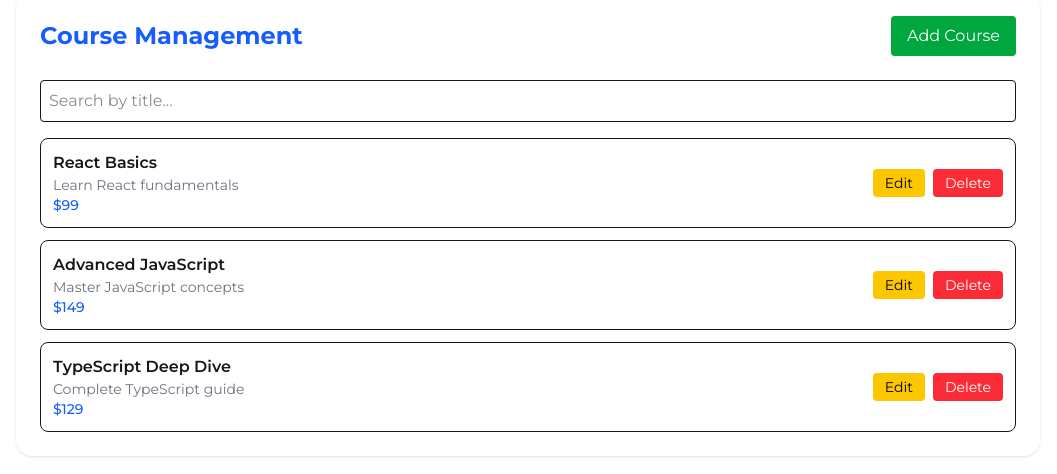
Scenario: CourseManagement Component › Search Functionality › should show 'No courses found' when search has no matches
Expected: the text "React Basics" is shown, [53,153,157,172]
Step 1. Type "Python" into the field with placeholder "Search by title..." → (528, 101), box [40,80,1016,122]
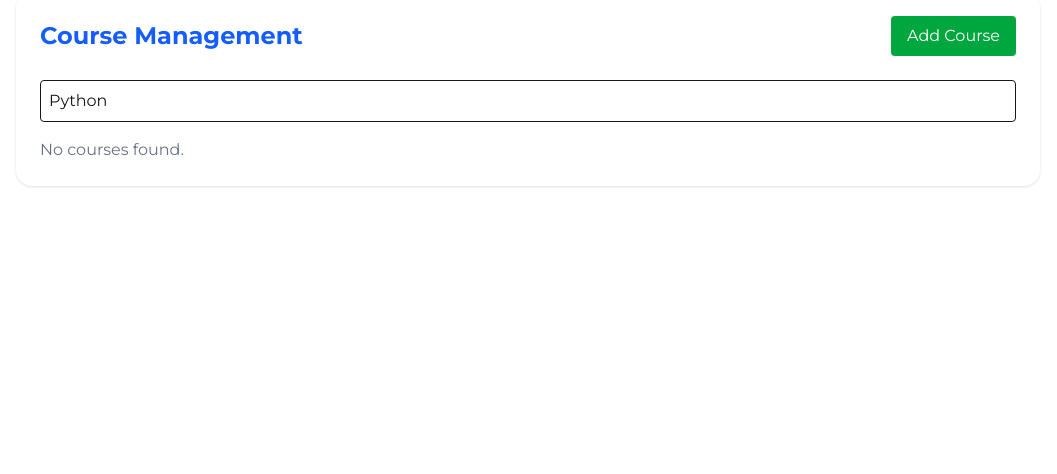
Result: the text "No courses found." is shown at [40,140,184,159]
